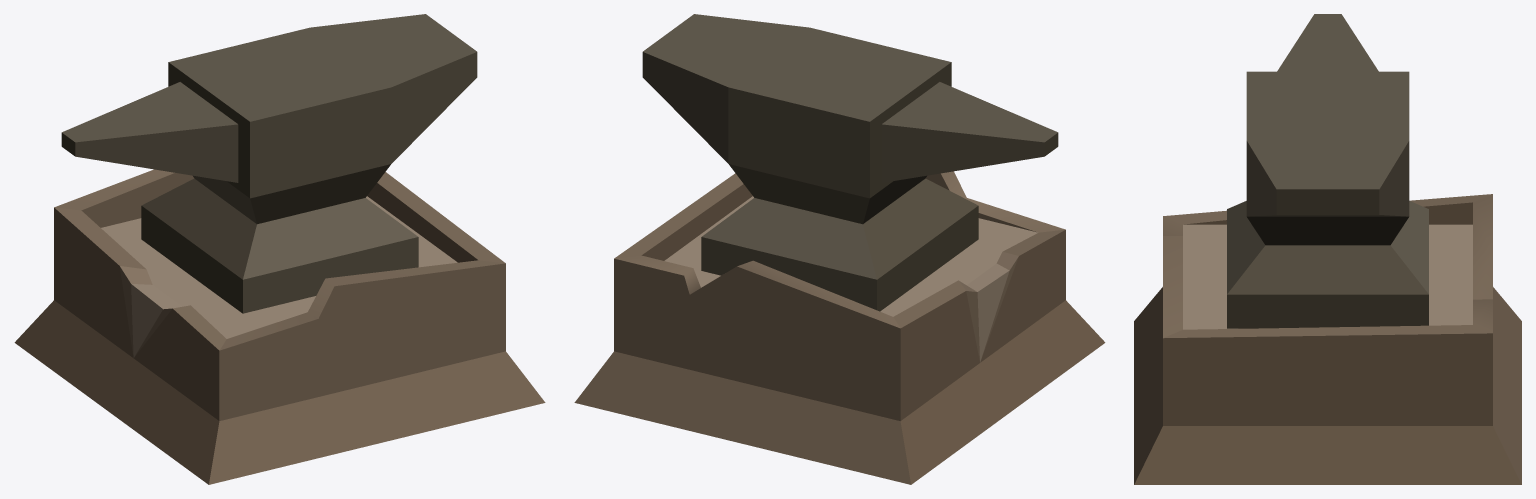
The model's file is SF_Prop_Goblin_Anvil.fbx.
3 views of the same model, side by side, from view 1: azimuth 30°, elevation 25°; view 2: azimuth 150°, elevation 25°; view 3: azimuth 270°, elevation 25° (orthographic).
Parts seen in each view (by area): view 1: SF_Prop_Goblin_Anvil; view 2: SF_Prop_Goblin_Anvil; view 3: SF_Prop_Goblin_Anvil.
Boxes of the visible parts, x1,y1,x2,y2 form: SF_Prop_Goblin_Anvil: [14, 14, 545, 484]; SF_Prop_Goblin_Anvil: [574, 14, 1105, 484]; SF_Prop_Goblin_Anvil: [1134, 14, 1521, 484].
Size of the model in its own units: 1.88 by 1.39 by 1.65.
